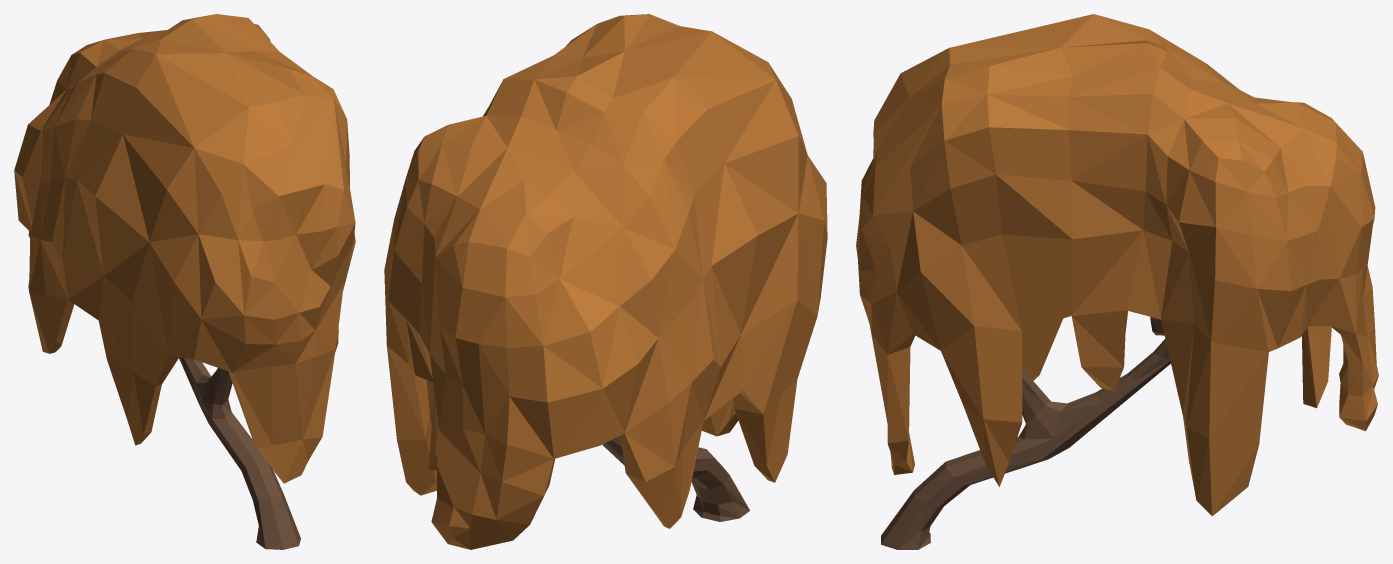
Rendered from Willow_Autumn_2.glb.
The picture shows the model from 3 angles, left to right: view 1: azimuth 30°, elevation 25°; view 2: azimuth 150°, elevation 25°; view 3: azimuth 270°, elevation 25°; orthographic projection. The views are drawn at different scales.
Parts seen in each view (by area): view 1: Willow_Autumn_2; view 2: Willow_Autumn_2; view 3: Willow_Autumn_2.
Part boxes in pixels (x1,y1,x2,y2): Willow_Autumn_2: [14, 14, 355, 549]; Willow_Autumn_2: [384, 14, 827, 549]; Willow_Autumn_2: [856, 14, 1378, 549].
Bounding box in the file's own units: 1.95 × 3.32 × 3.11.
